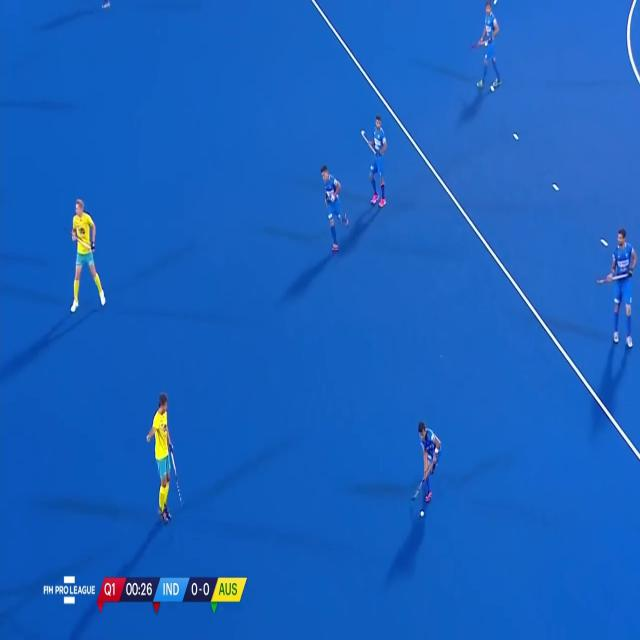ball: (418, 504, 427, 520)
